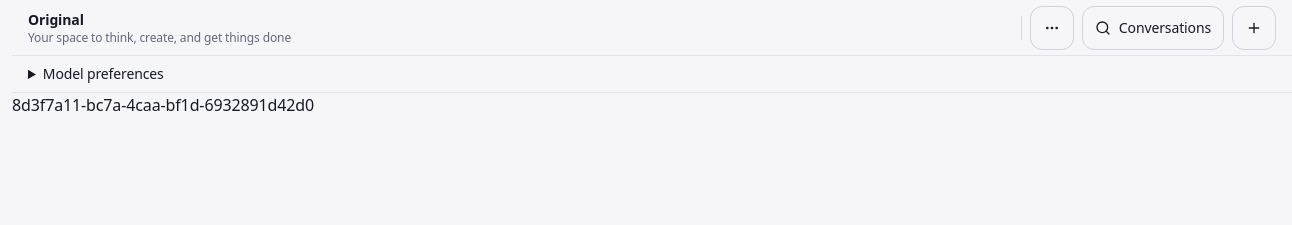
CopilotKit consumer session adapter › reports history refresh failure without claiming deletion failed
The width and height of the screenshot is (1292, 225).
Click the button named "Conversation options": (1052, 28) x1=1030 y1=6 x2=1074 y2=50
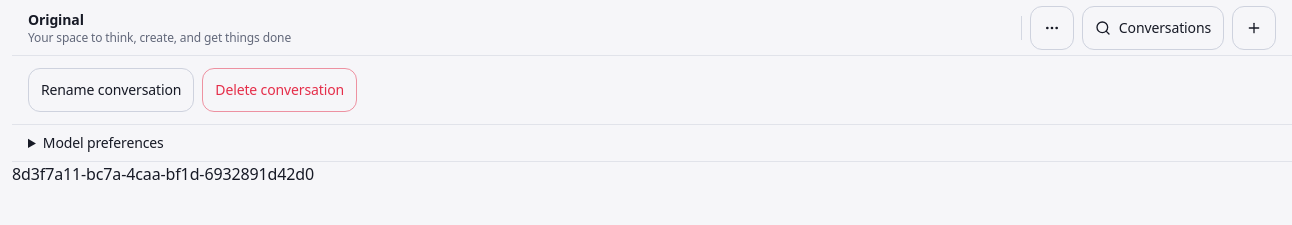
Click the button "Delete conversation": (280, 90) x1=202 y1=68 x2=357 y2=112
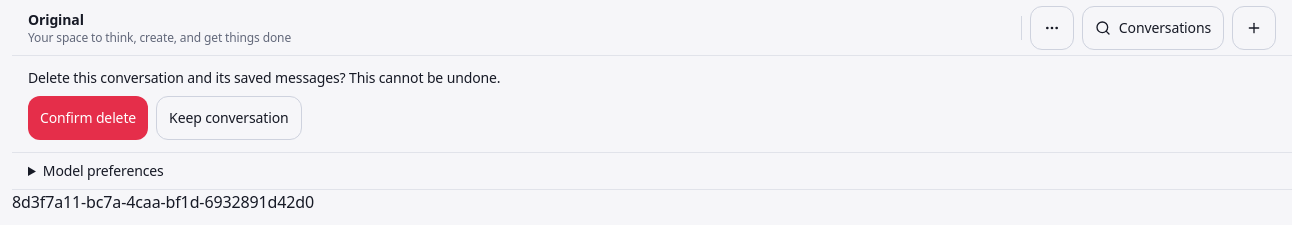
Click the button "Confirm delete": (88, 118) x1=28 y1=96 x2=148 y2=140
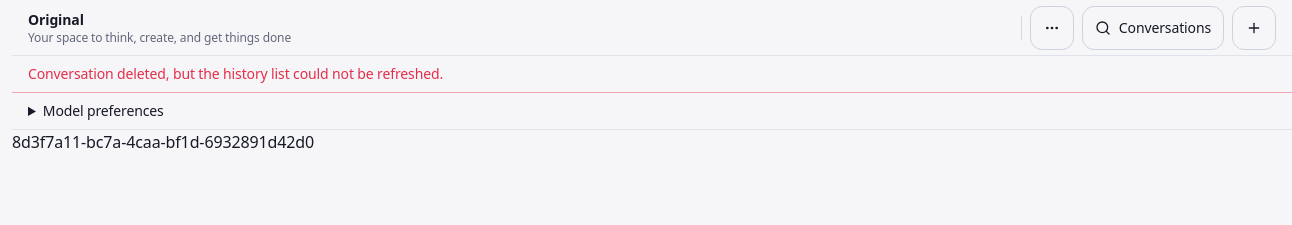
Expected: the message shows "history list could not be refreshed", x1=28 y1=64 x2=443 y2=83
